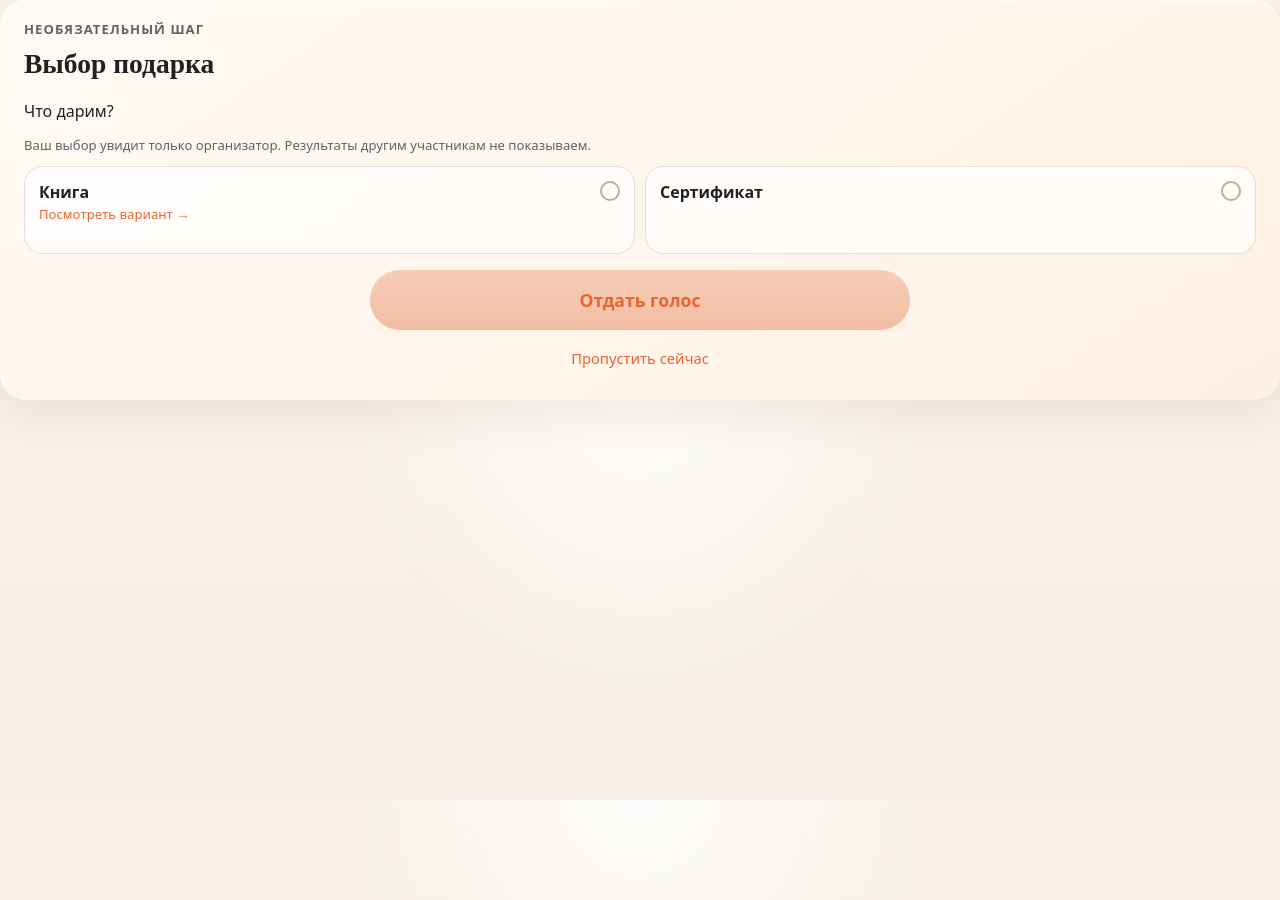
Scenario: GiftPollVote — post-submit сценарий › при ошибке сохраняет выбор и предлагает повторить
Click the radio button labelled "Книга Посмотреть вариант →" at {"x": 330, "y": 210}, box [24,166,635,254]
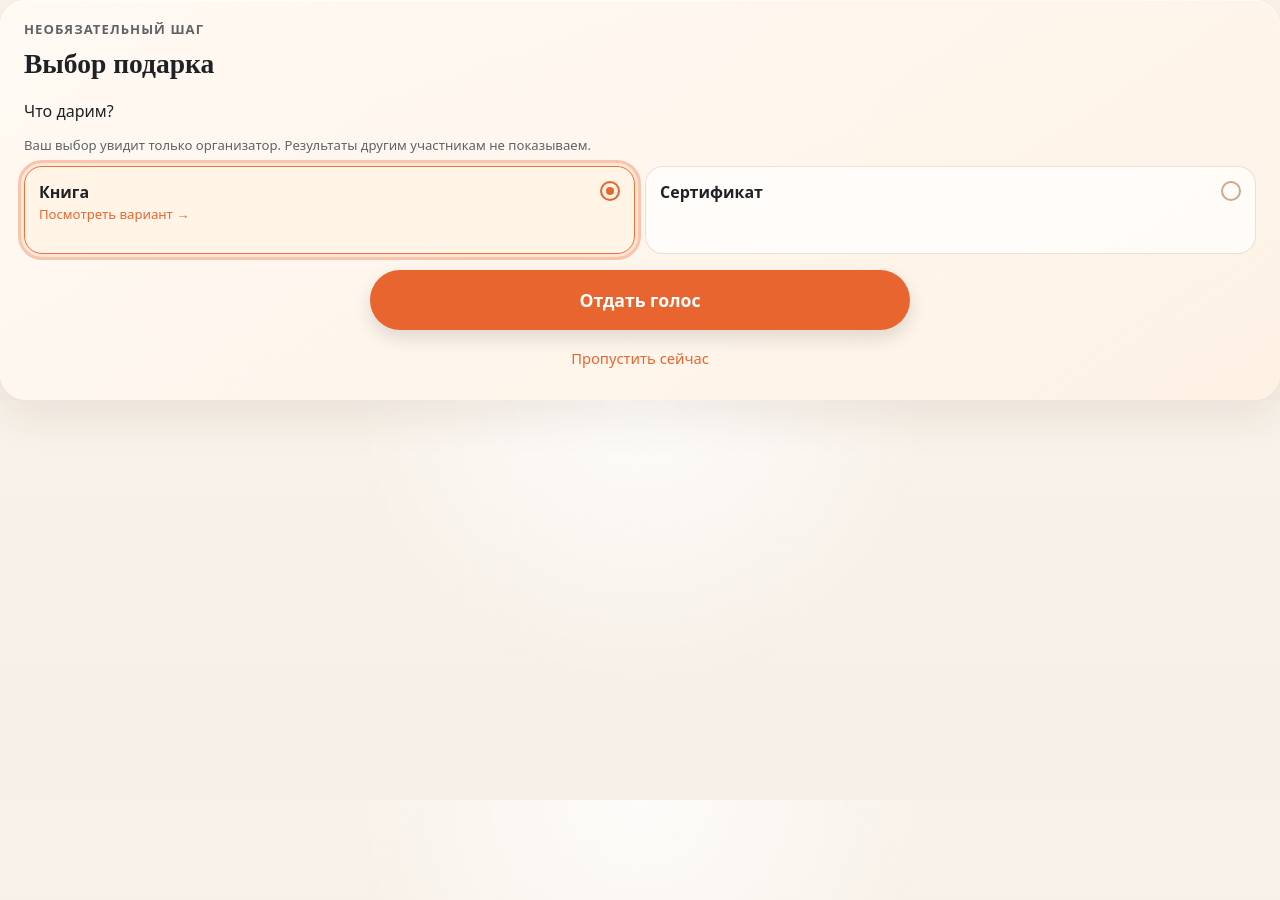
Click the button "Отдать голос" at {"x": 640, "y": 300}, box [370,270,910,330]
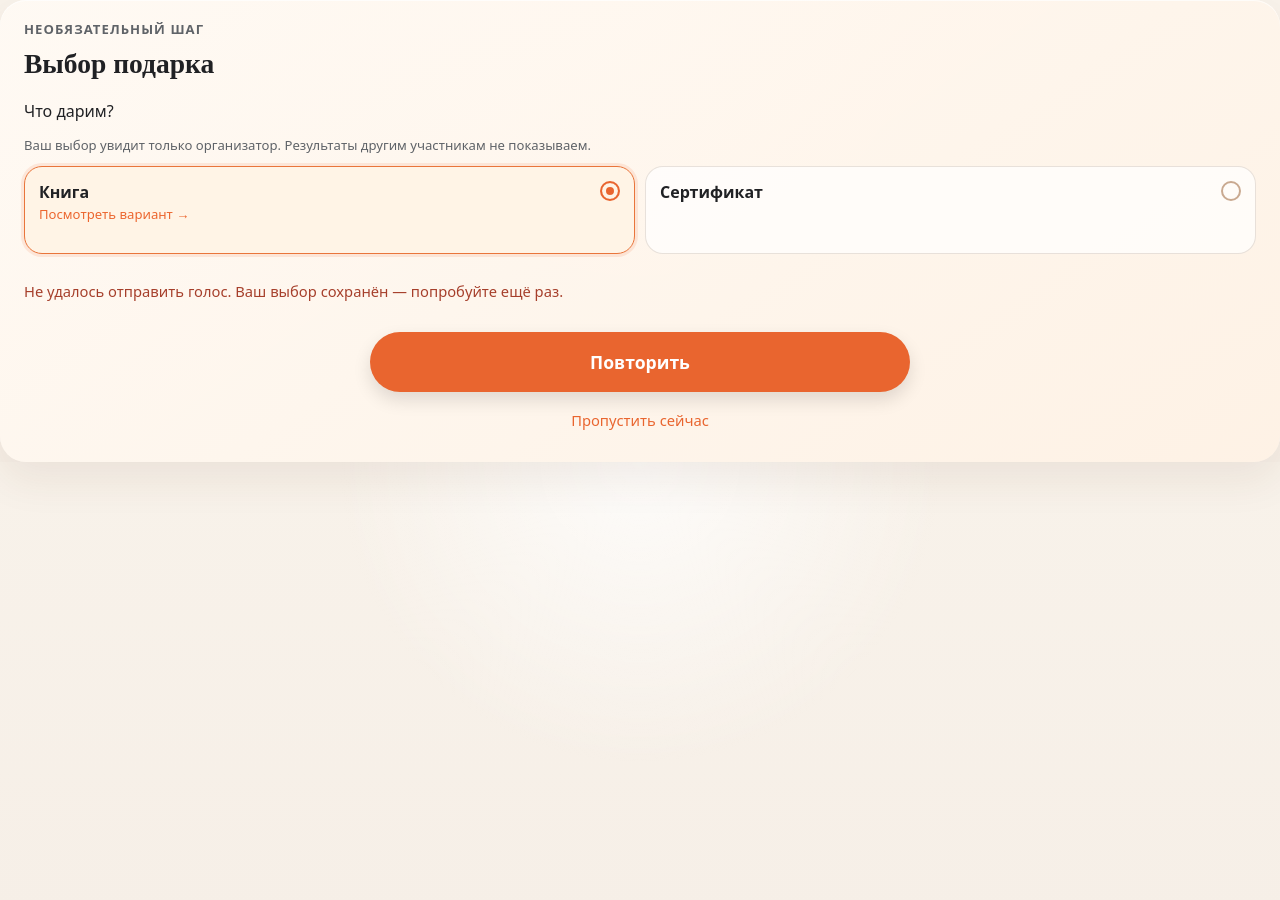
Check: the button "Повторить" is enabled, box [370,332,910,392]
Check: the message shows "Ваш выбор сохранён", box [24,281,563,301]
